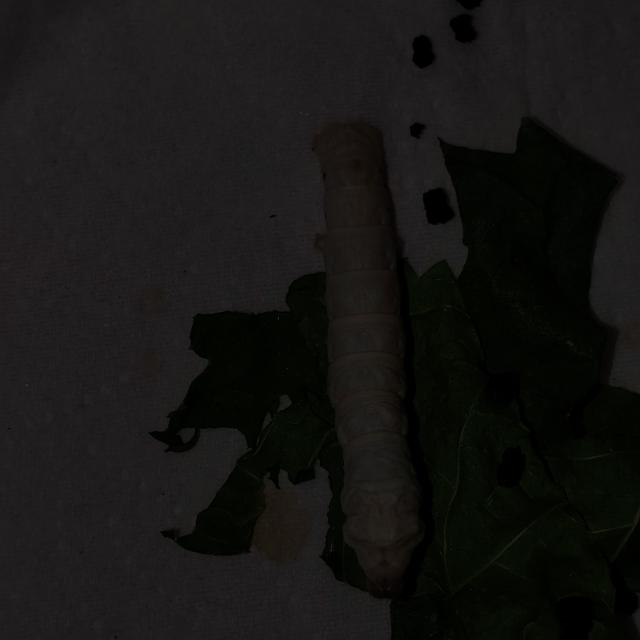Healthy: (296, 101, 472, 608)
